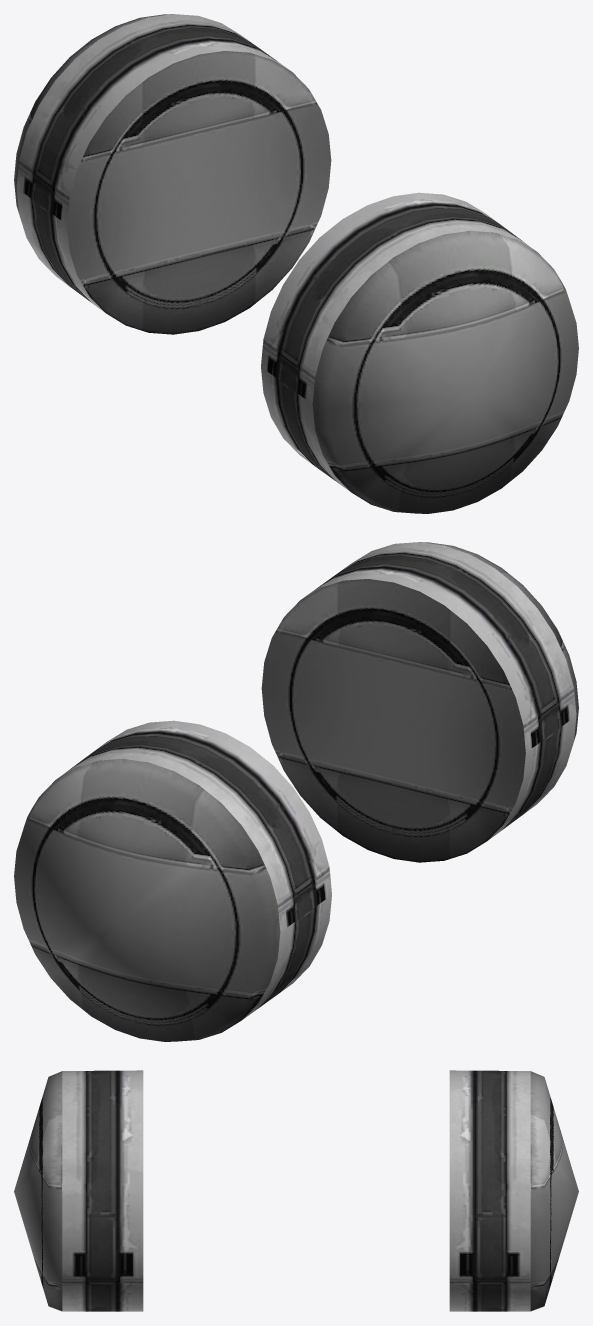
File: DockingArm_03_Hindge.FBX
The picture shows the model from 3 angles, top to bottom: view 1: azimuth 30°, elevation 25°; view 2: azimuth 150°, elevation 25°; view 3: azimuth 270°, elevation 25°; orthographic projection. The views are drawn at different scales.
Visible parts, largest first — view 1: DockingArm_03_Hindge; view 2: DockingArm_03_Hindge; view 3: DockingArm_03_Hindge.
Boxes of the visible parts, x1,y1,x2,y2 form: DockingArm_03_Hindge: (14,14,578,513); DockingArm_03_Hindge: (14,542,578,1041); DockingArm_03_Hindge: (14,1070,578,1311).
Bounding box in the file's own units: 4.22 × 4.22 × 9.88.
